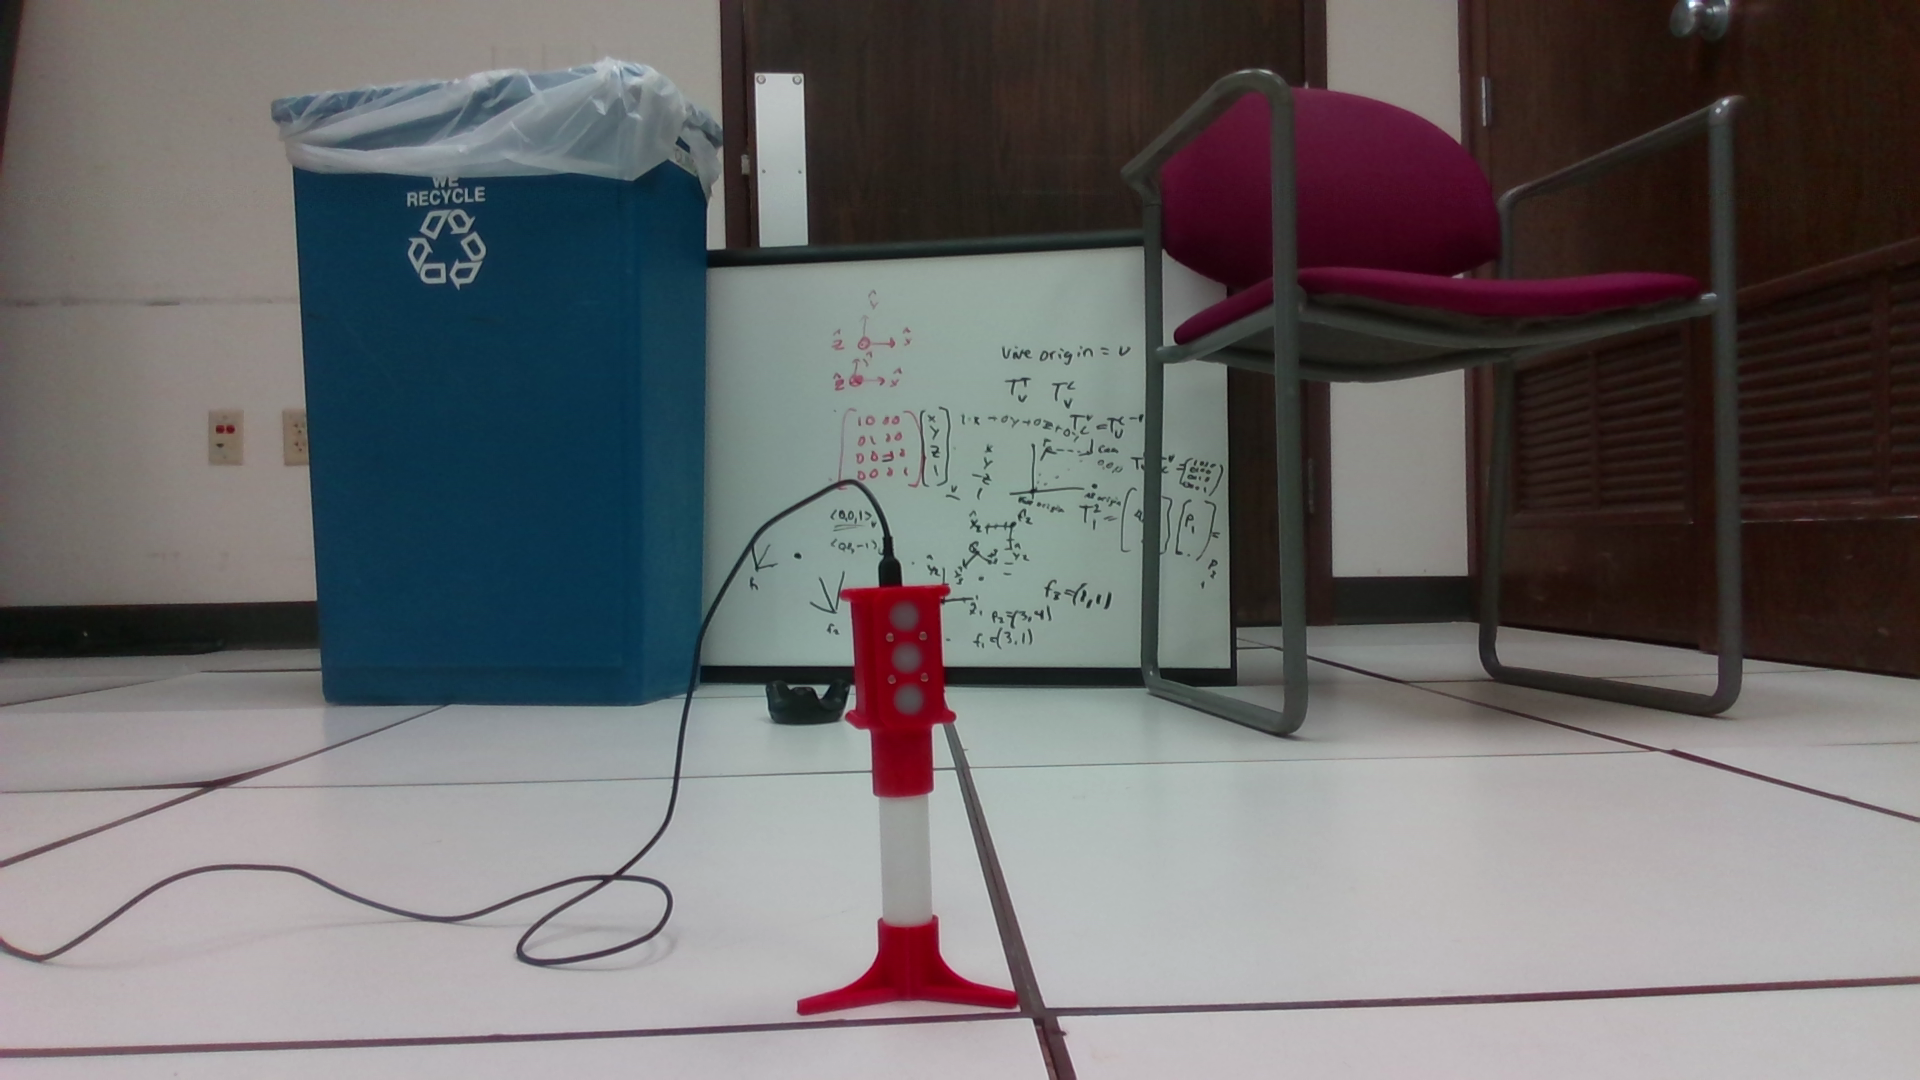stoplight: (836, 584, 961, 796)
